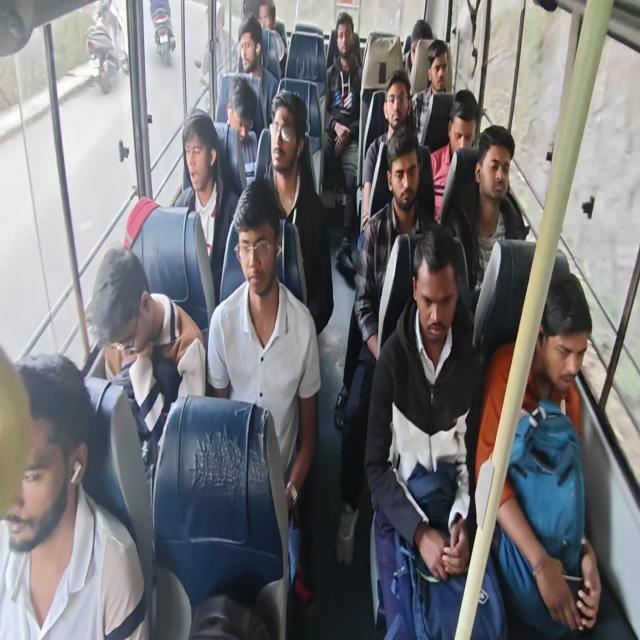person: (0, 371, 77, 541), (531, 281, 589, 403), (96, 281, 157, 364), (413, 246, 454, 352), (176, 120, 218, 198), (234, 218, 273, 298), (386, 142, 418, 209), (273, 105, 301, 173), (224, 89, 258, 144), (447, 104, 474, 162), (381, 78, 411, 125), (399, 26, 437, 60), (485, 136, 506, 194), (428, 49, 453, 96), (236, 31, 265, 70), (331, 14, 352, 61), (254, 3, 282, 35)
